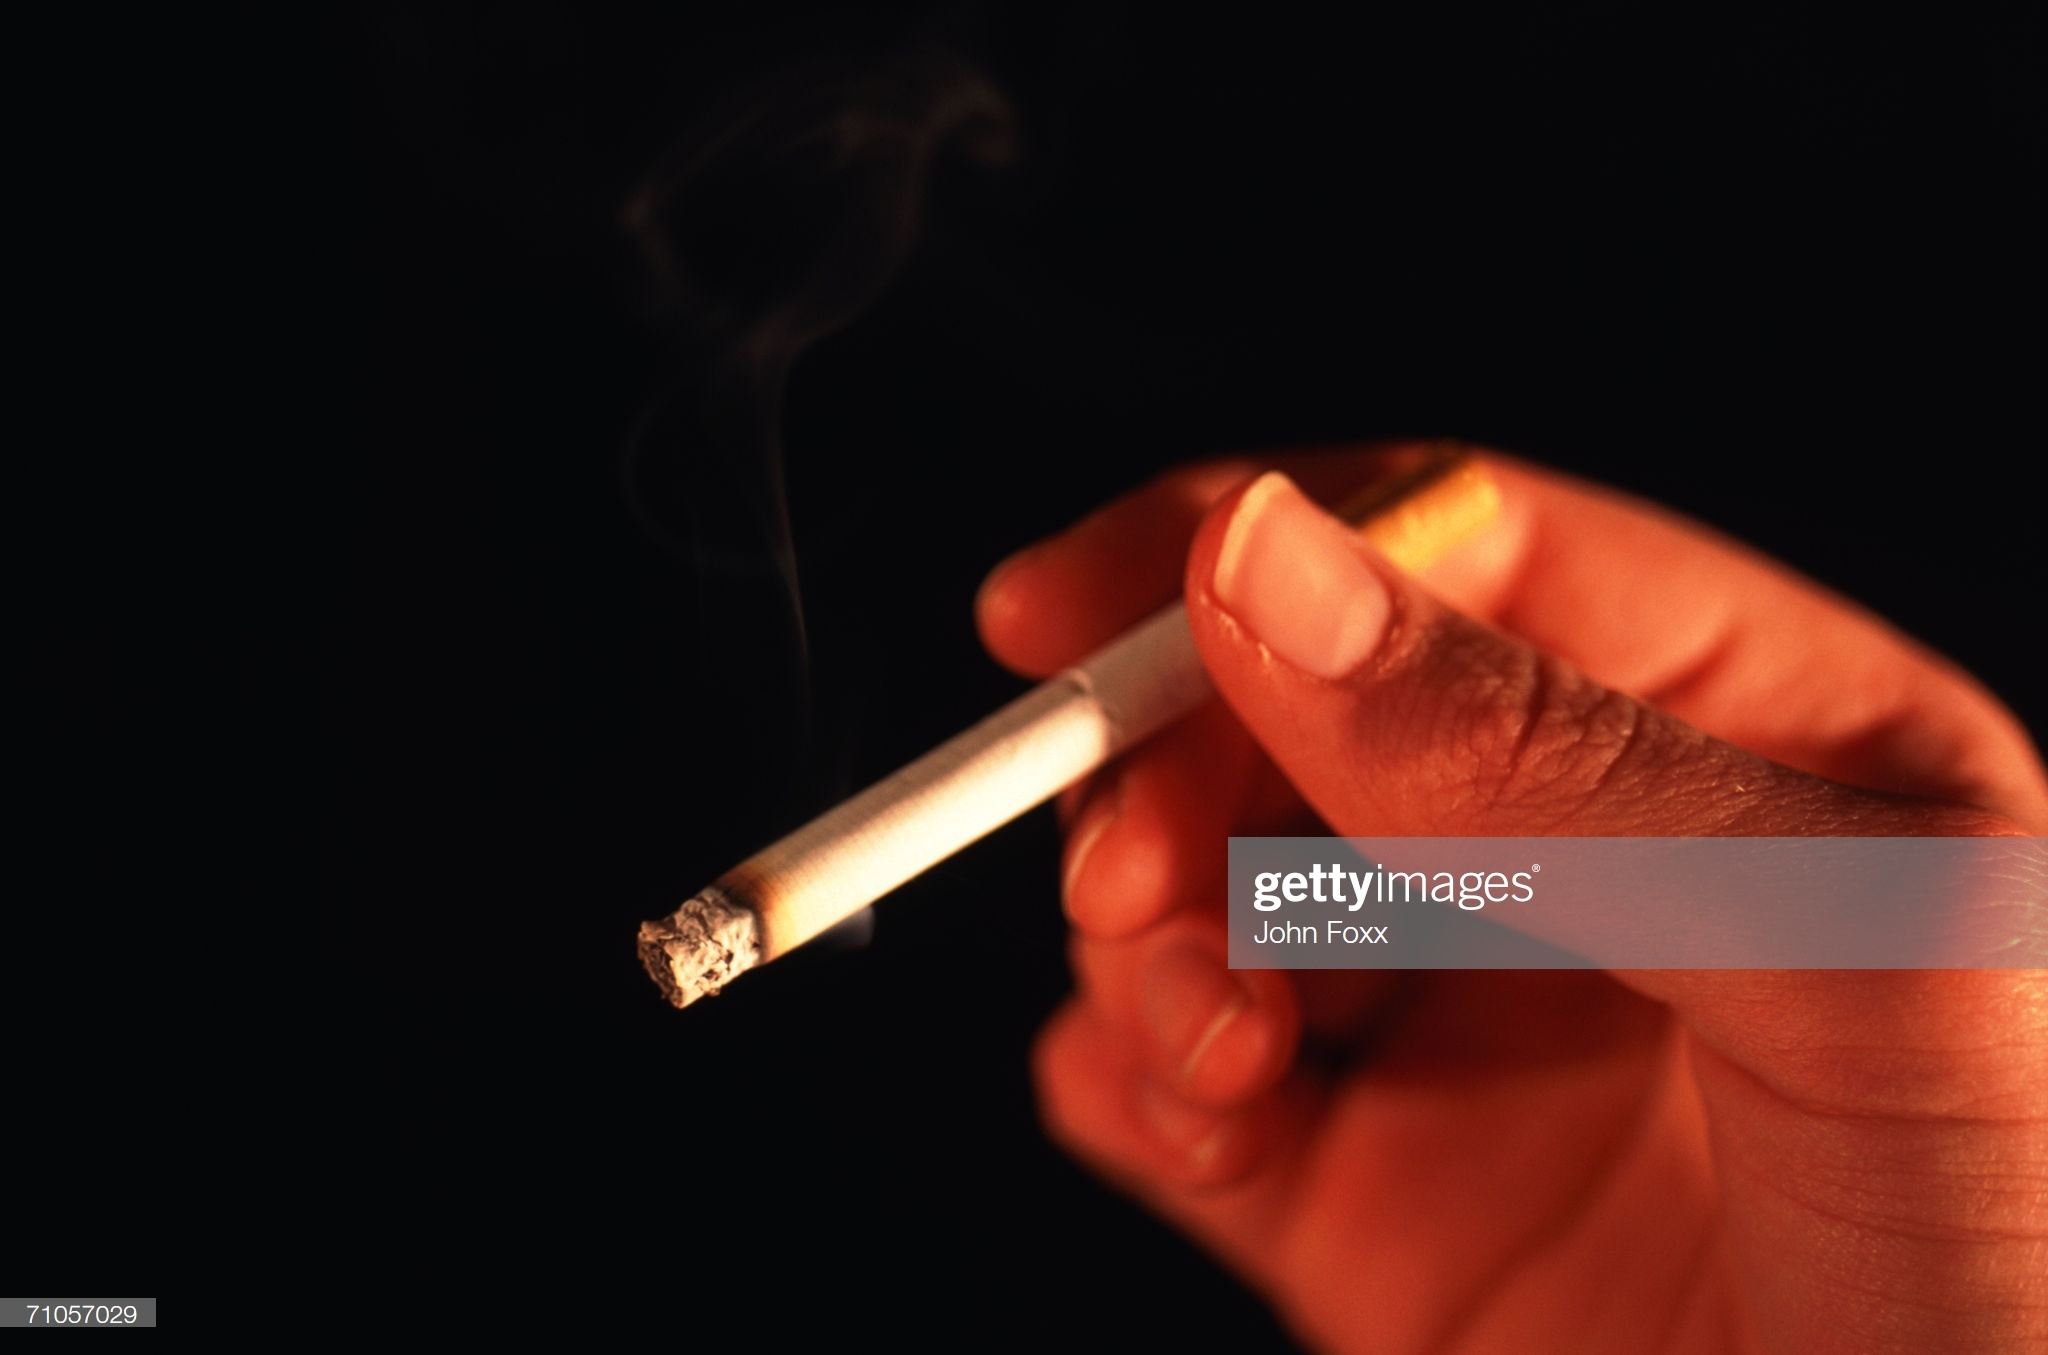sigaretta: (648, 448, 1499, 962)
